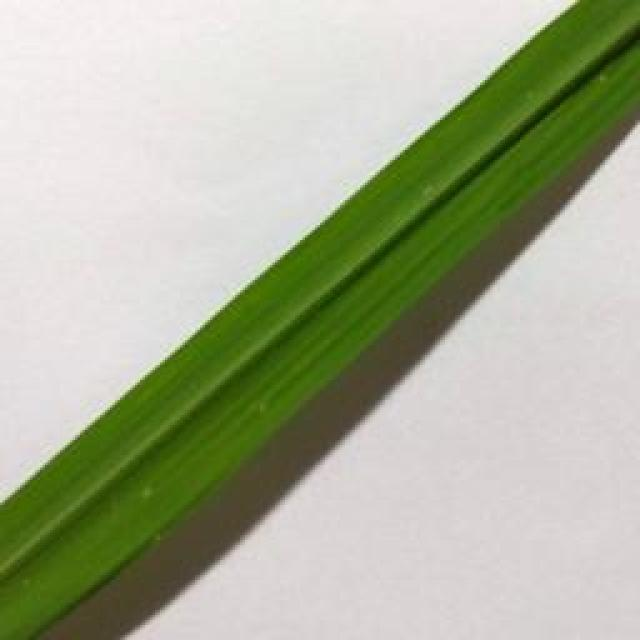Healthy-Plant: (336, 83, 498, 387), (89, 308, 244, 606), (219, 202, 370, 502), (477, 0, 640, 257), (0, 402, 130, 640)
